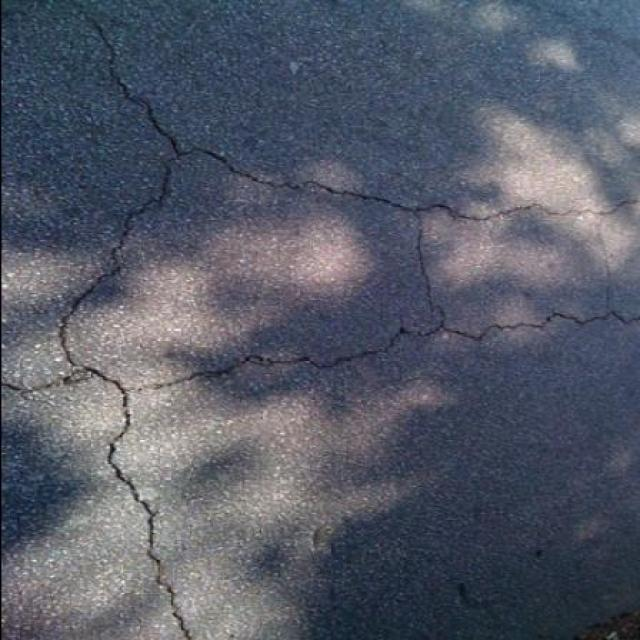Crack: (1, 20, 551, 640), (359, 229, 640, 354), (156, 352, 354, 388), (563, 206, 616, 214)
